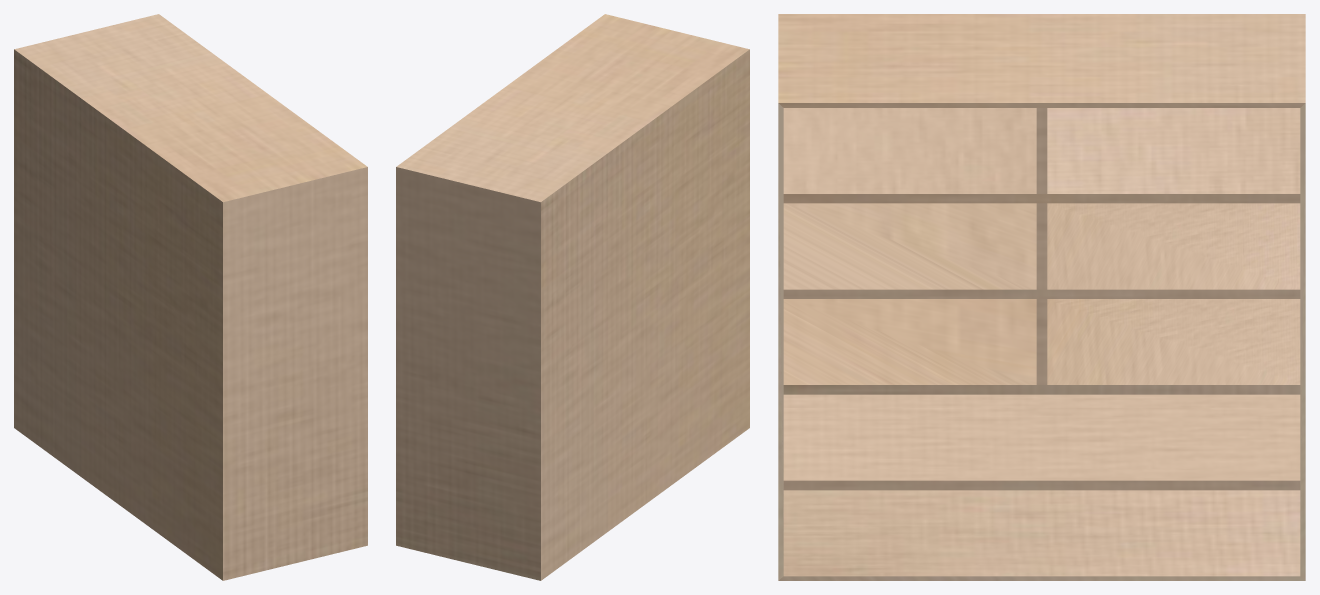
Rendered from cabinetBody.gltf.
3 views of the same model, side by side, from view 1: azimuth 30°, elevation 25°; view 2: azimuth 150°, elevation 25°; view 3: azimuth 270°, elevation 25° (orthographic). The views are drawn at different scales.
Visible parts, largest first — view 1: Plane; view 2: Plane; view 3: Plane.
Boxes of the visible parts, x1,y1,x2,y2 form: Plane: (14,14,367,580); Plane: (396,14,749,580); Plane: (778,14,1305,580).
Size of the model in its own units: 2.72 by 6.79 by 6.79.
Materials: 1 (1 with a texture image).
